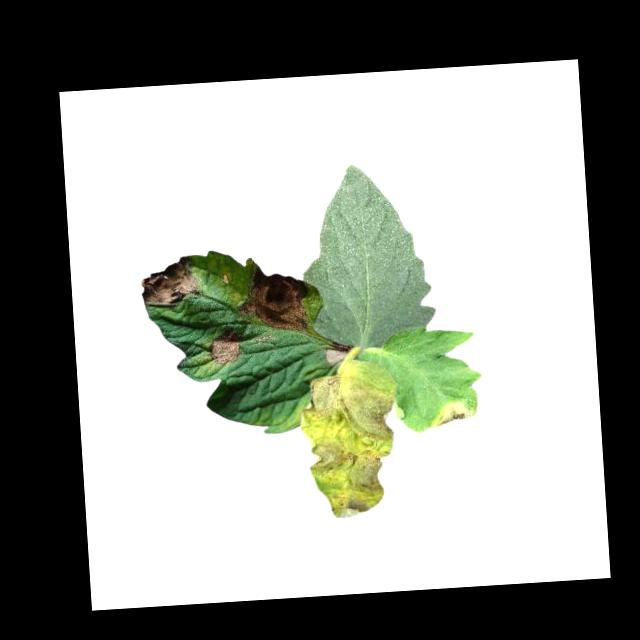Late_blight: (299, 371, 404, 520), (235, 257, 308, 336), (138, 254, 203, 310), (427, 399, 474, 429), (209, 330, 243, 364), (324, 345, 347, 366)
healthy: (296, 158, 441, 352)
